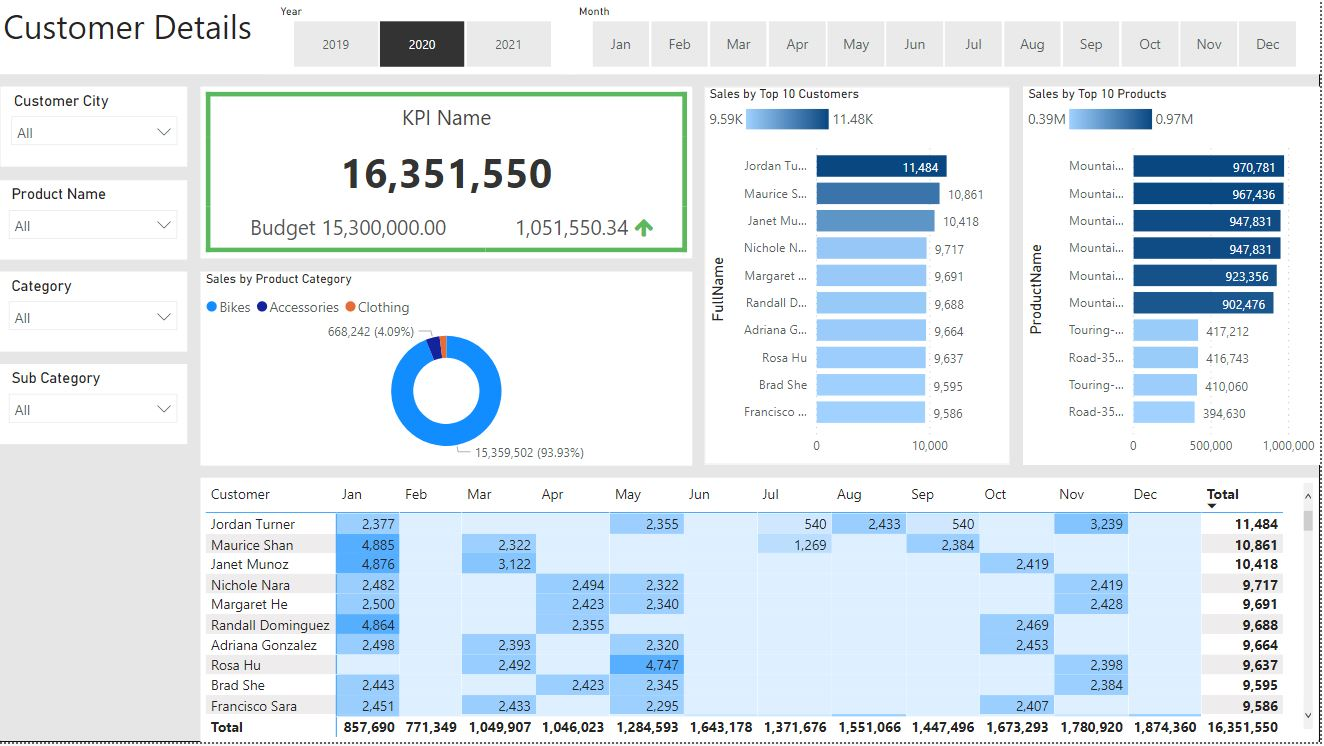

What the dashboard file says about the page in this screenshot:
{"tool":"powerbi","page":{"name":"Customer Details","canvas":[1280,720],"ordinal":1},"visuals":[{"type":"textbox","box":[0,0,1280,72.9],"z":0},{"type":"slicer","fields":{"Values":["DIM_Customer.CustomerCity"]},"box":[2.4,85,180.9,77.7],"z":1000},{"type":"slicer","fields":{"Values":["DIM_Products.Sub Category"]},"box":[0,353.4,183.4,77.7],"z":2000},{"type":"slicer","fields":{"Values":["DIM_Products.Product Category"]},"box":[0,263.5,183.4,77.7],"z":3000},{"type":"slicer","fields":{"Values":["DIM_Products.ProductName"]},"box":[0,174.9,183.4,76.5],"z":4000},{"type":"slicer","fields":{"Values":["DIM_Calendar.Year"]},"box":[224.7,0,334,72.9],"z":5000},{"type":"slicer","fields":{"Values":["DIM_Calendar.MonthShort"]},"box":[548.9,0,731.1,72.9],"z":6000},{"type":"BBED0A4D4D8D44CE93CF2DAFADEE466C","fields":{"actual":["FACT_InsternetSales.Sales"],"target1":["FACT_Budget.Budget Amount"],"target2":["Key Measures.Sales - Budget"]},"box":[195.5,85,476.1,166.4],"z":7000},{"type":"donutChart","fields":{"Category":["DIM_Products.Product Category"],"Y":["Key Measures.Sales"]},"box":[195.5,263.5,476.1,188.2],"z":8000},{"type":"barChart","title":"Sales by Top 10 Customers","fields":{"Y":["Key Measures.Sales"],"Category":["DIM_Customer.FullName"]},"box":[683.7,85,296.3,366.8],"z":10000},{"type":"barChart","title":"Sales by Top 10  Products","fields":{"Y":["Key Measures.Sales"],"Category":["DIM_Products.ProductName"]},"box":[992.2,85,287.8,366.8],"z":11000},{"type":"pivotTable","fields":{"Rows":["DIM_Customer.FullName"],"Values":["Key Measures.Sales"],"Columns":["DIM_Calendar.MonthShort"]},"box":[195.5,463.8,1082,256.2],"z":11001}]}

Visuals, with their boxes in screenshot pixels (x1, y1, x2, y2), scaled from the page's 1280x720 canvas onto the 1324x746 screenshot:
textbox: x1=0, y1=0, x2=1323, y2=76
slicer - DIM_Customer.CustomerCity: x1=2, y1=88, x2=190, y2=169
slicer - DIM_Products.Sub Category: x1=0, y1=366, x2=190, y2=447
slicer - DIM_Products.Product Category: x1=0, y1=273, x2=190, y2=354
slicer - DIM_Products.ProductName: x1=0, y1=181, x2=190, y2=260
slicer - DIM_Calendar.Year: x1=232, y1=0, x2=578, y2=76
slicer - DIM_Calendar.MonthShort: x1=568, y1=0, x2=1323, y2=76
BBED0A4D4D8D44CE93CF2DAFADEE466C - FACT_InsternetSales.Sales x FACT_Budget.Budget Amount: x1=202, y1=88, x2=695, y2=260
donutChart - DIM_Products.Product Category x Key Measures.Sales: x1=202, y1=273, x2=695, y2=468
"Sales by Top 10 Customers" barChart: x1=707, y1=88, x2=1014, y2=468
"Sales by Top 10  Products" barChart: x1=1026, y1=88, x2=1323, y2=468
pivotTable - DIM_Customer.FullName x Key Measures.Sales: x1=202, y1=481, x2=1321, y2=745
